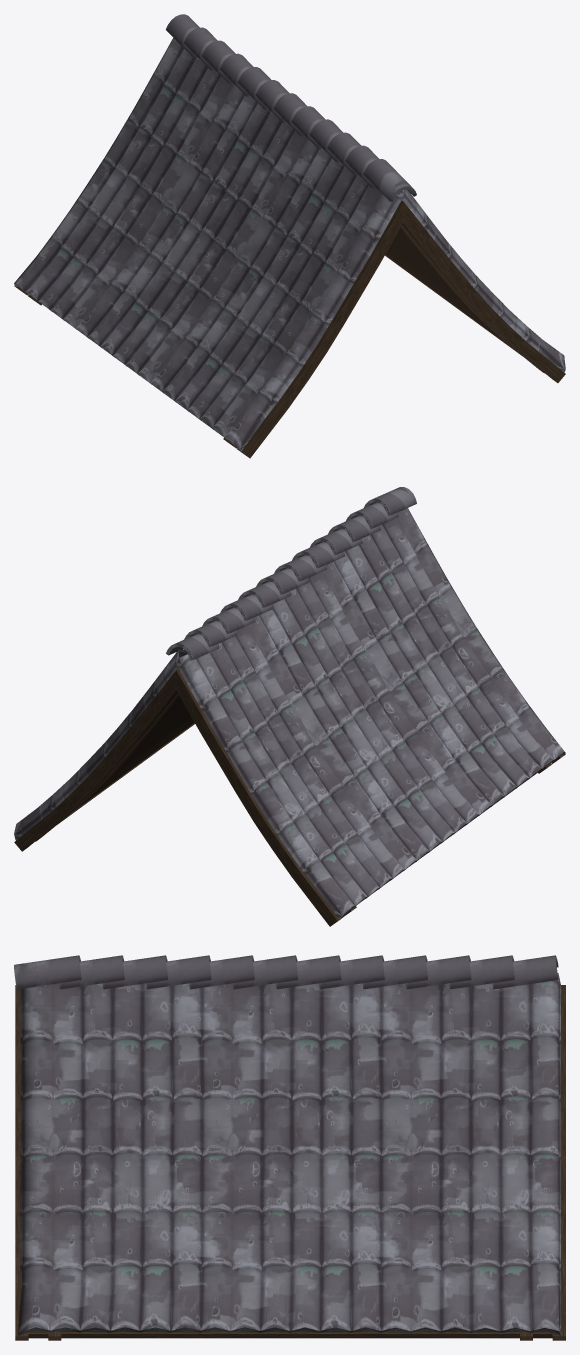
Rendered from Roof_RoundTiles_6x8.gltf.
3 views of the same model, one above another, from view 1: azimuth 30°, elevation 25°; view 2: azimuth 150°, elevation 25°; view 3: azimuth 270°, elevation 25° (orthographic). The views are drawn at different scales.
Visible parts, largest first — view 1: Roof_RoundTiles_6x8; view 2: Roof_RoundTiles_6x8; view 3: Roof_RoundTiles_6x8.
Part boxes in pixels (left/top/right/bottom): Roof_RoundTiles_6x8: left=14, top=14, right=565, bottom=458; Roof_RoundTiles_6x8: left=14, top=487, right=565, bottom=926; Roof_RoundTiles_6x8: left=14, top=955, right=565, bottom=1340.
Size of the model in its own units: 8.25 by 5.67 by 9.68.
Materials: 2 (2 with a texture image).
